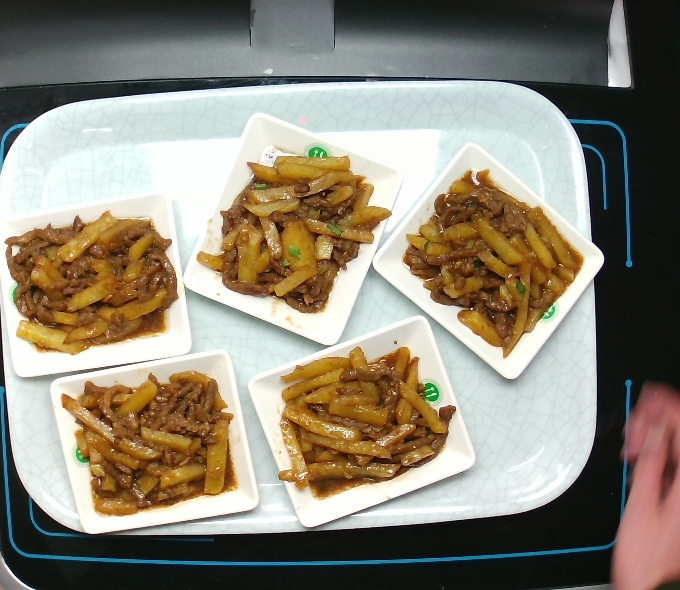wcq-TuDouNiuRou: (400, 168, 583, 357), (202, 139, 392, 318), (275, 348, 460, 498), (65, 375, 244, 513), (4, 214, 183, 350)
